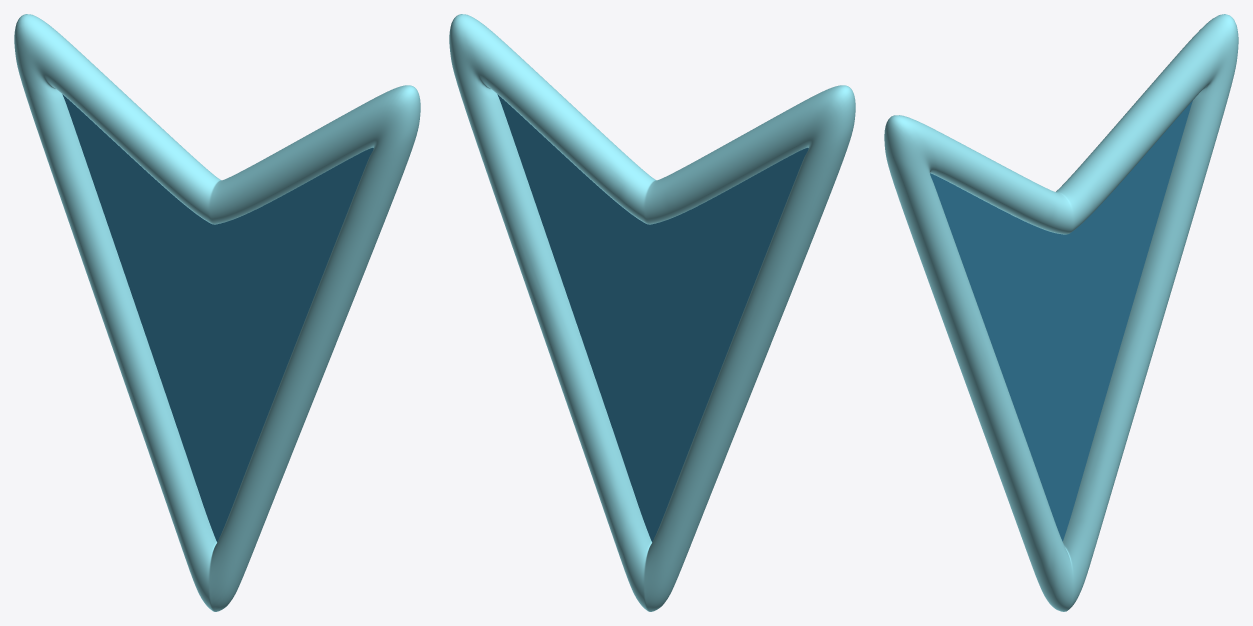
File: arrow.fbx
The picture shows the model from 3 angles, left to right: view 1: azimuth 30°, elevation 25°; view 2: azimuth 210°, elevation 25°; view 3: azimuth 270°, elevation 25°; orthographic projection. The views are drawn at different scales.
Parts seen in each view (by area): view 1: pasted__pCube4; view 2: pasted__pCube4; view 3: pasted__pCube4.
Boxes of the visible parts, box(x1,y1,x2,y2) form: pasted__pCube4: box(14, 14, 420, 611); pasted__pCube4: box(449, 14, 855, 611); pasted__pCube4: box(884, 14, 1238, 611).
Size of the model in its own units: 65.55 by 146 by 86.23.
Materials: 2 (1 with a texture image).
